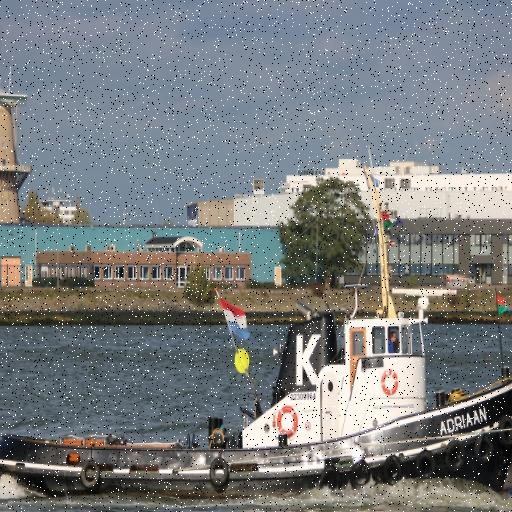tugboat: (1, 293, 512, 512)
